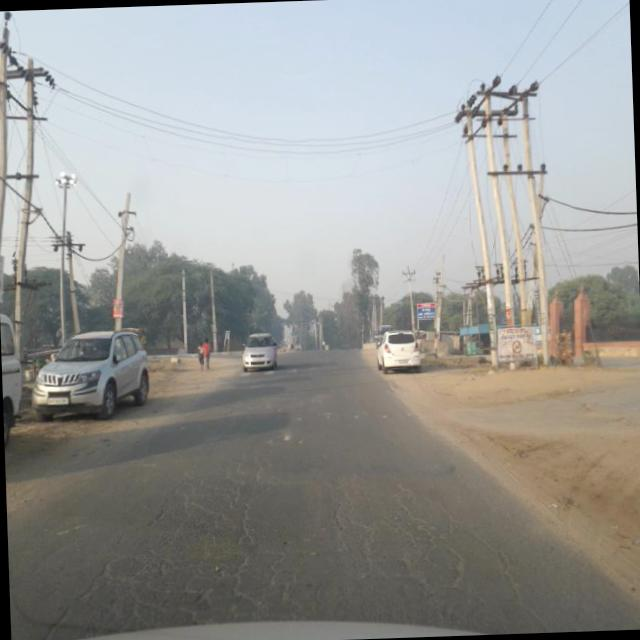crack: (48, 427, 500, 630)
